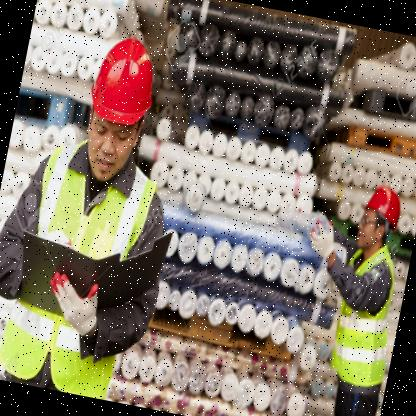capacete: (71, 28, 166, 192), (350, 181, 406, 262)
colete_refletivo: (0, 122, 190, 407), (321, 238, 408, 386)
